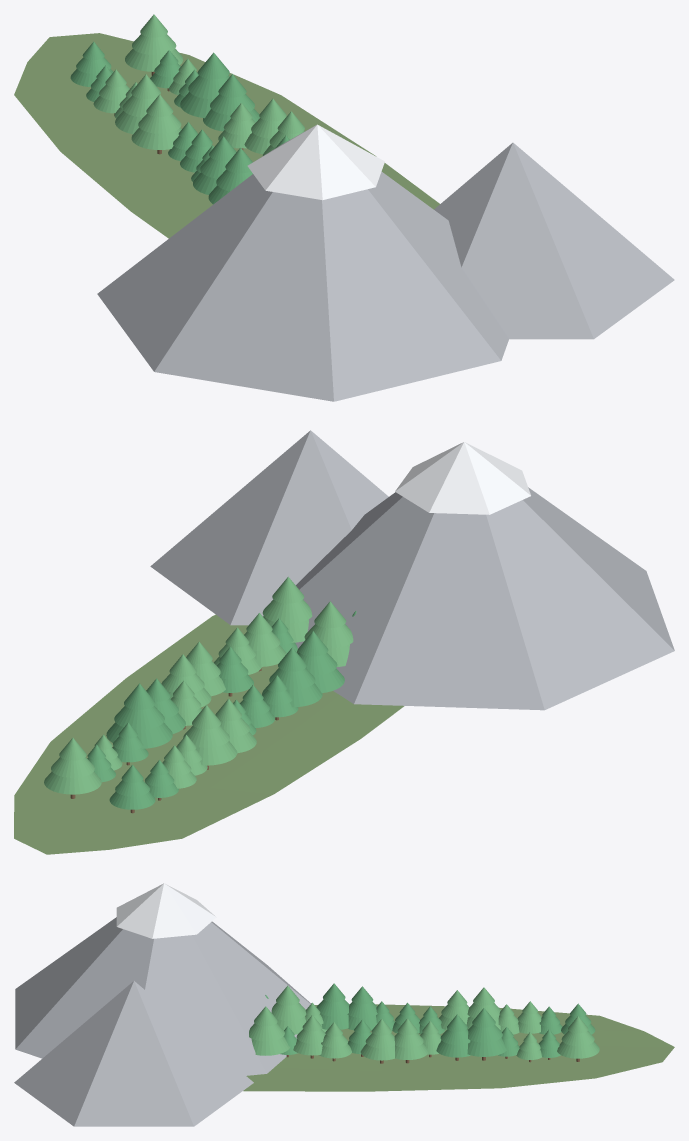
The model's file is Foret_Sentier.fbx.
3 renders of one model, top to bottom at view 1: azimuth 30°, elevation 25°; view 2: azimuth 150°, elevation 25°; view 3: azimuth 270°, elevation 25°, orthographic. The views are drawn at different scales.
Parts seen in each view (by area): view 1: Env_Montagne1.002, Env_Montagne2.002, Env_Sol.002, Env_Neige1.002, Arbre_5_-1_Feuillage0.002, Arbre_0_1_Feuillage1.002, Arbre_0_1_Feuillage0.002, Arbre_5_-1_Feuillage1.002, Arbre_4_1_Feuillage1.002, Arbre_5_1_Feuillage1.002; view 2: Env_Montagne1.002, Env_Sol.002, Env_Montagne2.002, Env_Neige1.002, Arbre_0_1_Feuillage0.002, Arbre_13_1_Feuillage1.002, Arbre_4_1_Feuillage1.002, Arbre_4_1_Feuillage0.002, Arbre_12_-1_Feuillage1.002, Arbre_4_-1_Feuillage1.002, Arbre_0_1_Feuillage1.002, Arbre_4_-1_Feuillage0.002 (+1 smaller); view 3: Env_Montagne1.002, Env_Montagne2.002, Env_Sol.002, Env_Neige1.002, Arbre_4_1_Feuillage0.002, Arbre_0_1_Feuillage0.002, Arbre_13_1_Feuillage0.002, Arbre_13_1_Feuillage1.002, Arbre_4_1_Feuillage1.002, Arbre_12_-1_Feuillage1.002, Arbre_10_-1_Feuillage1.002, Arbre_8_1_Feuillage0.002 (+4 smaller).
Boxes of the visible parts, <box> form: Env_Montagne1.002: <box>97,171,508,401</box>; Env_Montagne2.002: <box>434,142,674,339</box>; Env_Sol.002: <box>14,33,439,238</box>; Env_Neige1.002: <box>247,124,384,200</box>; Arbre_5_-1_Feuillage0.002: <box>131,127,181,149</box>; Arbre_0_1_Feuillage1.002: <box>132,34,176,54</box>; Arbre_0_1_Feuillage0.002: <box>125,48,182,71</box>; Arbre_5_-1_Feuillage1.002: <box>138,113,181,133</box>; Arbre_4_1_Feuillage1.002: <box>188,75,229,99</box>; Arbre_5_1_Feuillage1.002: <box>210,94,254,114</box>; Env_Montagne1.002: <box>295,487,674,710</box>; Env_Sol.002: <box>14,614,404,854</box>; Env_Montagne2.002: <box>150,430,388,625</box>; Env_Neige1.002: <box>395,442,530,514</box>; Arbre_0_1_Feuillage0.002: <box>44,771,101,794</box>; Arbre_13_1_Feuillage1.002: <box>262,599,312,623</box>; Arbre_4_1_Feuillage1.002: <box>114,706,164,729</box>; Arbre_4_1_Feuillage0.002: <box>106,722,172,748</box>; Arbre_12_-1_Feuillage1.002: <box>304,624,353,647</box>; Arbre_4_-1_Feuillage1.002: <box>183,726,229,747</box>; Arbre_0_1_Feuillage1.002: <box>51,757,94,777</box>; Arbre_4_-1_Feuillage0.002: <box>196,741,237,765</box>; Env_Montagne1.002: <box>15,917,310,1075</box>; Env_Montagne2.002: <box>14,981,253,1126</box>; Env_Sol.002: <box>243,1004,674,1091</box>; Env_Neige1.002: <box>116,883,216,938</box>; Arbre_4_1_Feuillage0.002: <box>467,1038,507,1056</box>; Arbre_0_1_Feuillage0.002: <box>557,1041,599,1058</box>; Arbre_13_1_Feuillage0.002: <box>251,1036,290,1055</box>; Arbre_13_1_Feuillage1.002: <box>249,1023,284,1041</box>; Arbre_4_1_Feuillage1.002: <box>468,1025,502,1042</box>; Arbre_12_-1_Feuillage1.002: <box>271,1002,306,1020</box>; Arbre_10_-1_Feuillage1.002: <box>316,999,349,1016</box>; Arbre_8_1_Feuillage0.002: <box>360,1044,394,1060</box>.
Size of the model in its own units: 5530 by 2006 by 8806.
